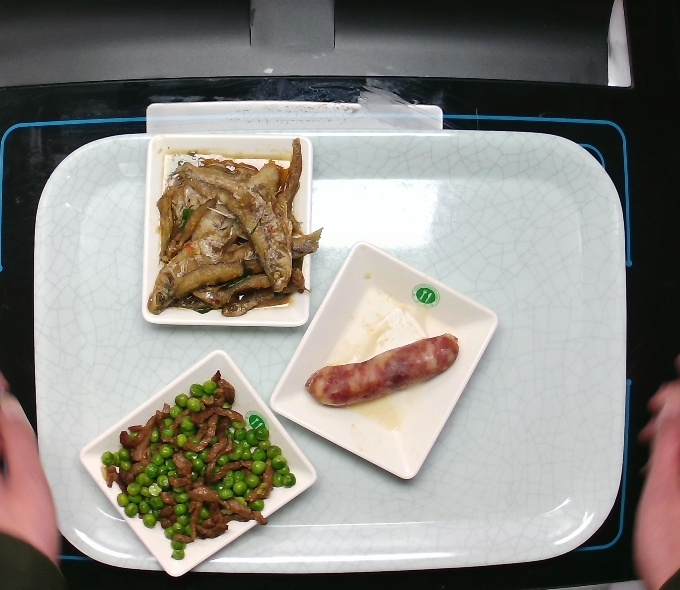wcq-CanDouNiuRou: (100, 367, 296, 563)
wcq-XiangChang: (304, 330, 460, 408)
wcq-XiaoJiYu: (146, 142, 319, 317)
